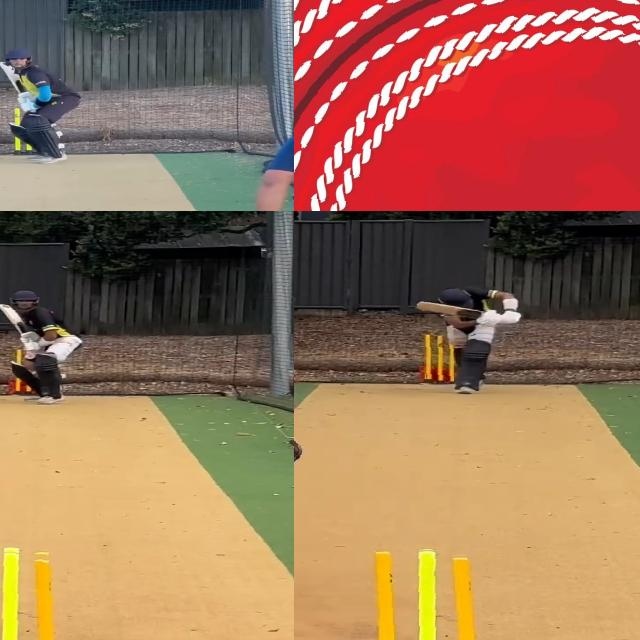Cricket ball: (294, 0, 640, 211)
Stumps: (358, 547, 481, 640), (0, 546, 66, 640), (424, 333, 454, 384)
